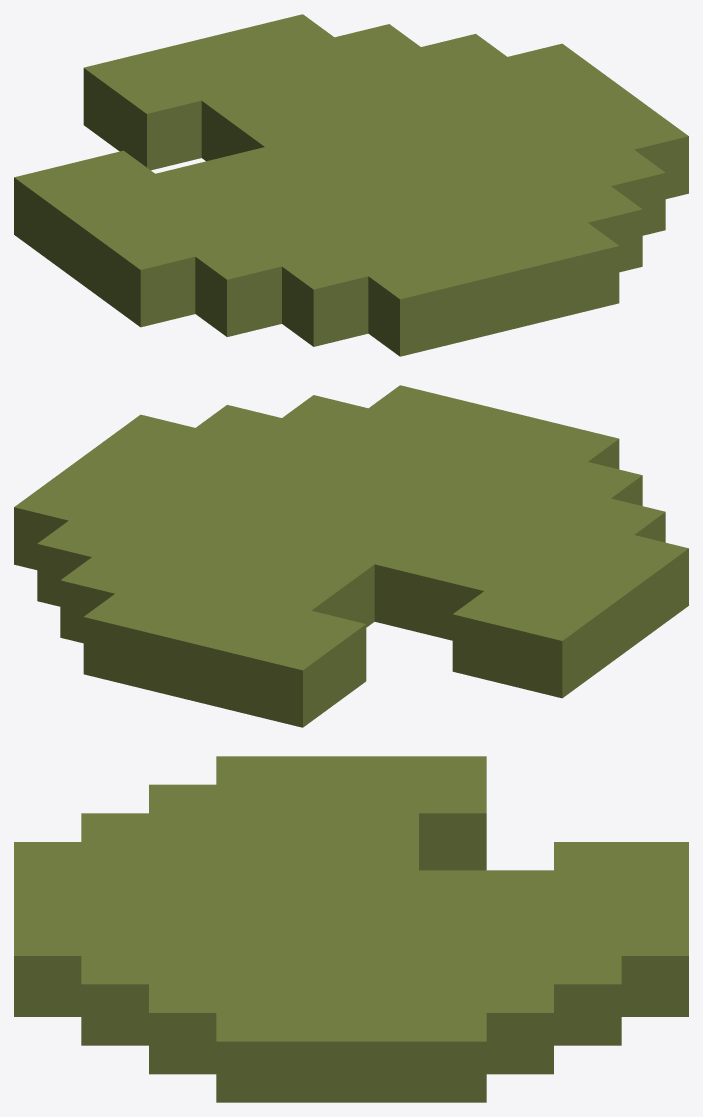
File: lotusleaf2.vox.obj
3 renders of one model, top to bottom at view 1: azimuth 30°, elevation 25°; view 2: azimuth 150°, elevation 25°; view 3: azimuth 270°, elevation 25°, orthographic. The views are drawn at different scales.
Bounding box in the file's own units: 1 × 0.1 × 1.
1 material, 1 textured.
